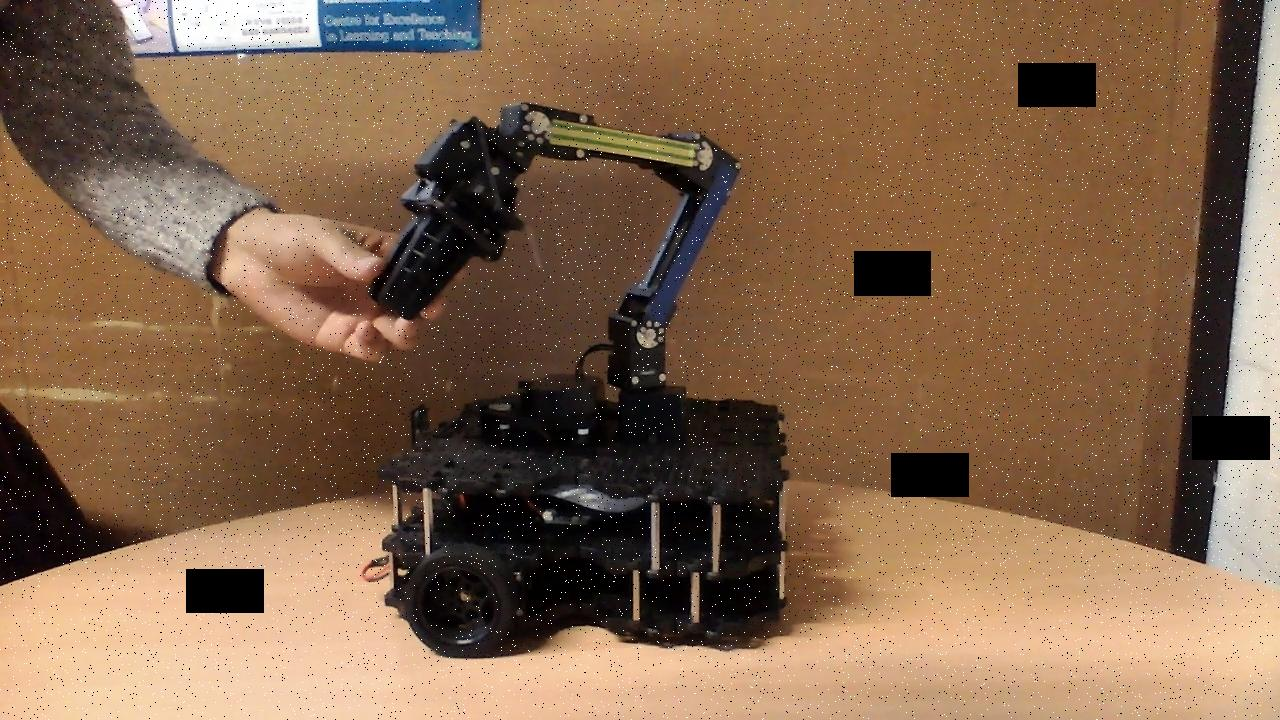Arm: (617, 147, 743, 350)
Hand: (366, 100, 532, 322)
Wrist: (517, 104, 718, 180)
base: (361, 370, 794, 661)
